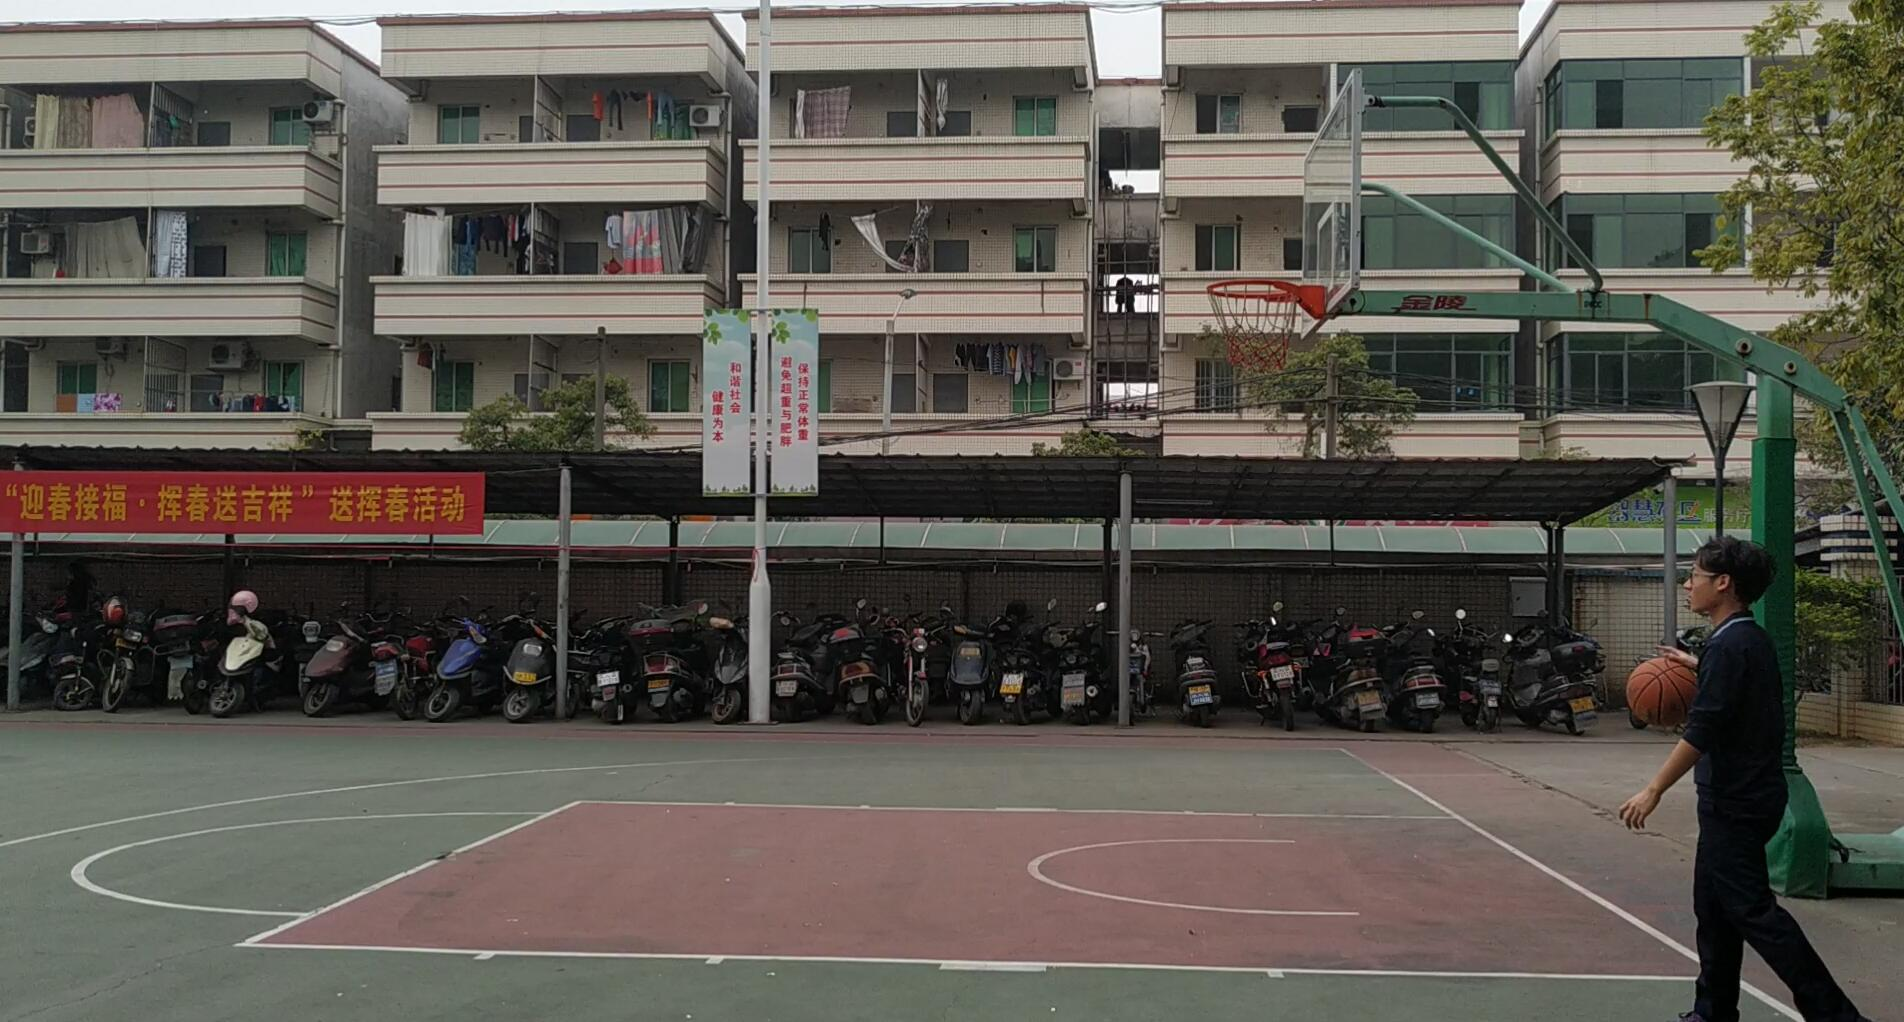basketball: (1624, 651, 1708, 736)
